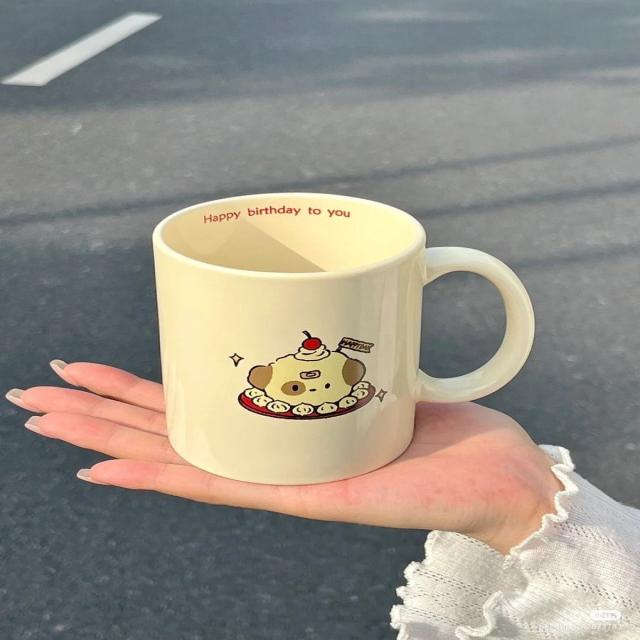glass cup: (153, 192, 536, 484)
